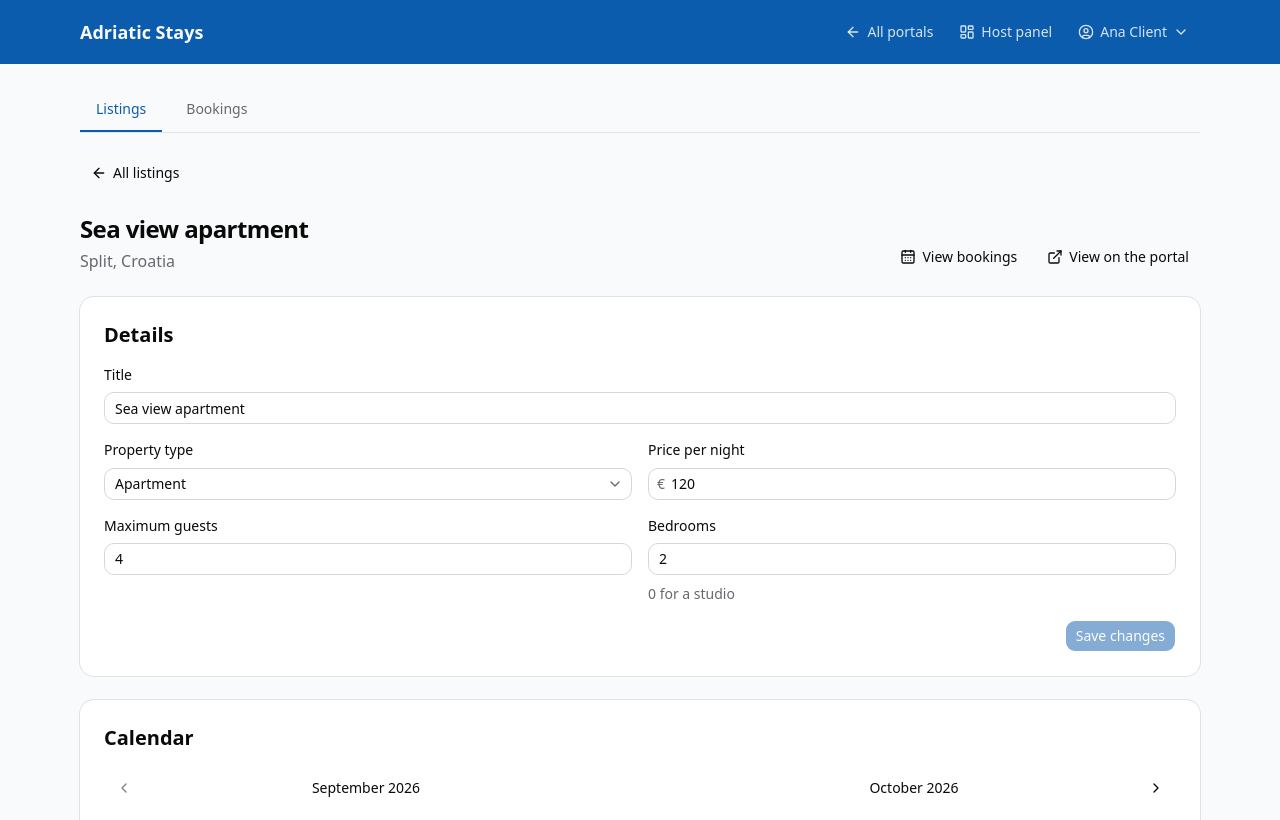
HostListingPage — editor › sends nothing while a field breaks its rule
The width and height of the screenshot is (1280, 820).
Clear the field labelled "Title": (640, 408) [104,392,1176,424]
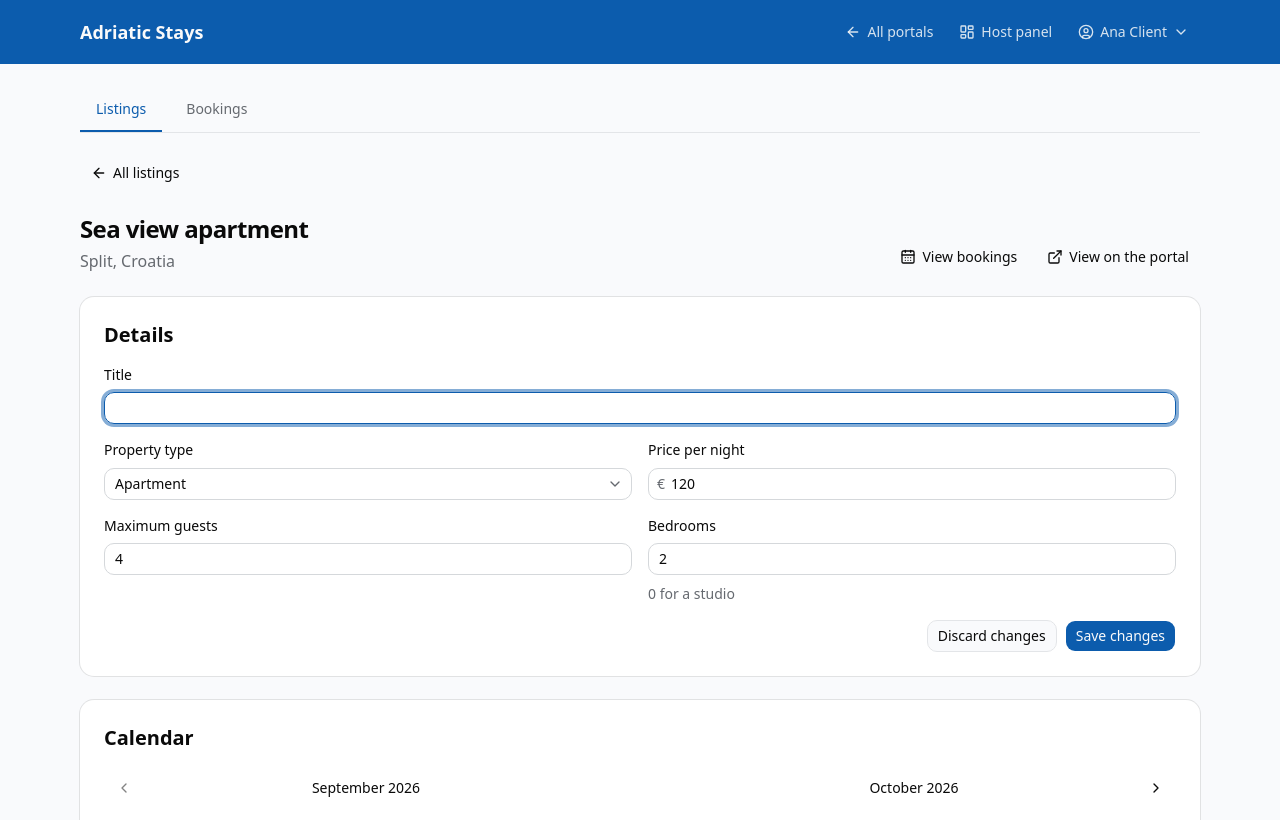
Replace the text in the field labelled "Price per night" with "1e2": (920, 484) [665,468,1175,500]
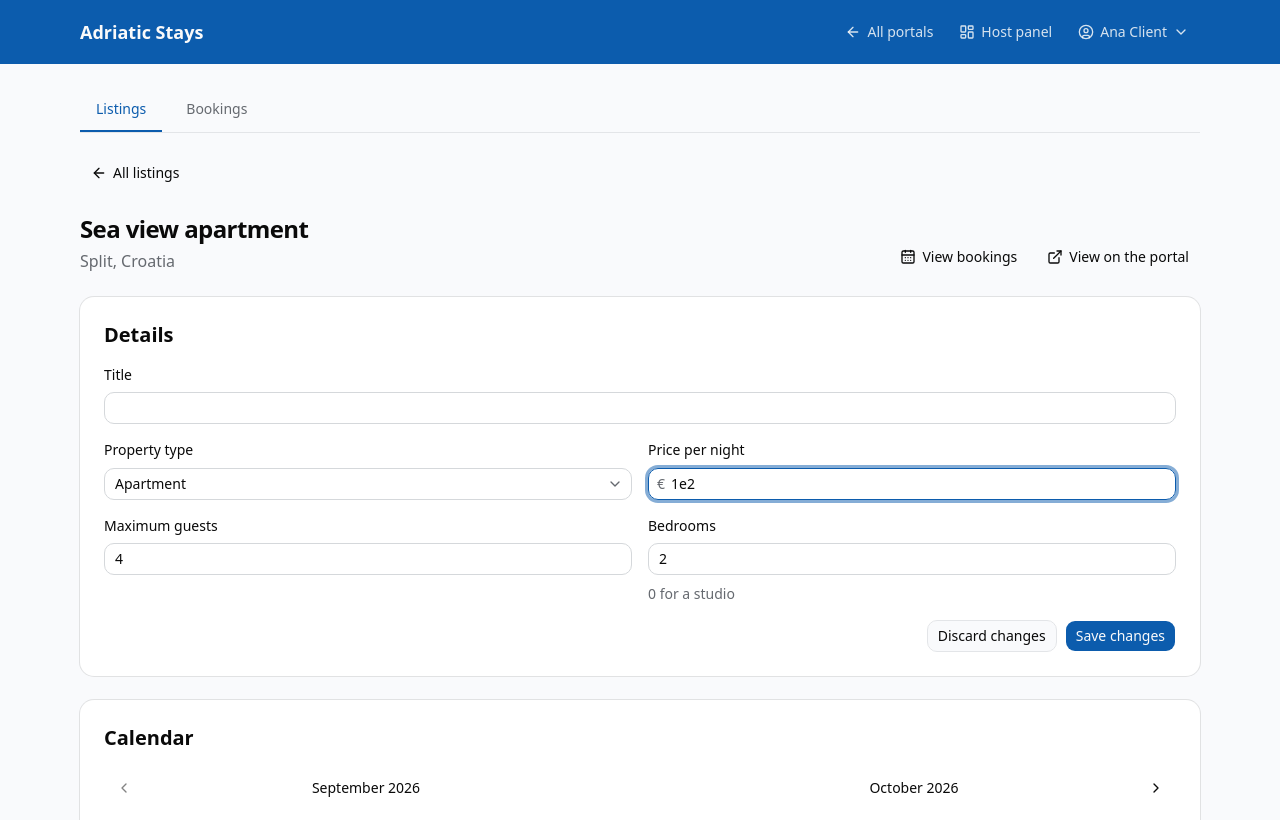
Click the button "Save changes": (1120, 636) [1065,620,1176,652]
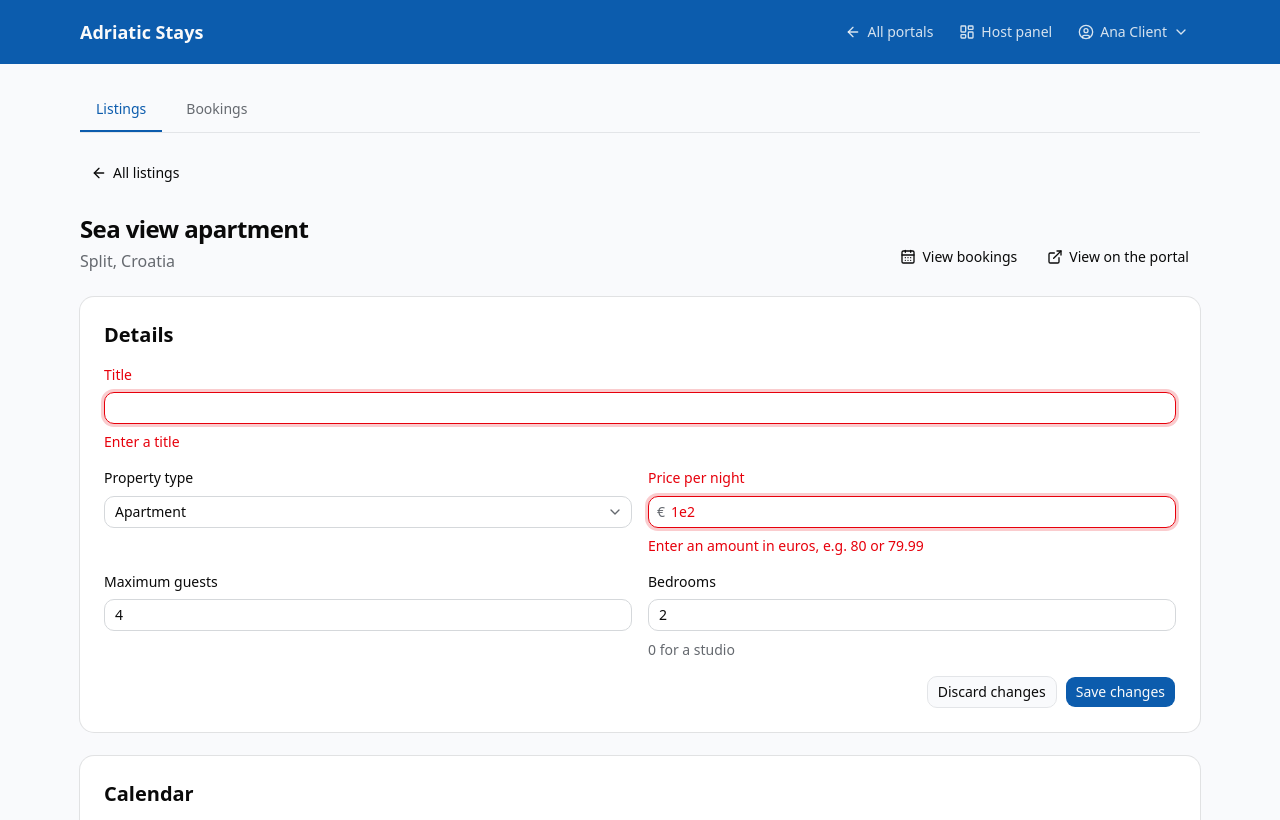
Result: the text "Enter a title" is shown at [104,432,180,451]
Result: the text "Enter an amount in euros, e.g. 80 or 79.99" is shown at [648,536,924,554]
